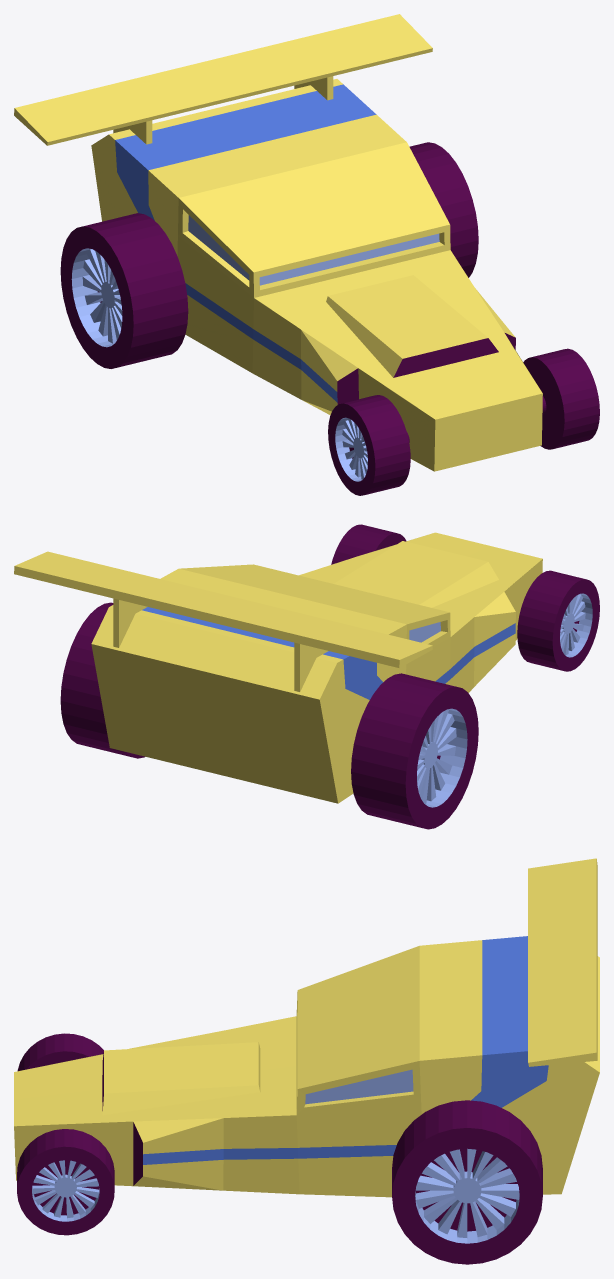
File: car2_dragster.glb
3 views of the same model, one above another, from view 1: azimuth 30°, elevation 25°; view 2: azimuth 150°, elevation 25°; view 3: azimuth 270°, elevation 25° (orthographic). The views are drawn at different scales.
Parts seen in each view (by area): view 1: car, wheel_br, wheel_fr, wheel_fl, wheel_bl; view 2: car, wheel_br, wheel_fr, wheel_bl, wheel_fl; view 3: car, wheel_bl, wheel_fl, wheel_fr.
Part boxes in pixels (left/top/right/bottom): car: left=14, top=14, right=546, bottom=471; wheel_br: left=60, top=213, right=188, bottom=368; wheel_fr: left=328, top=395, right=410, bottom=495; wheel_fl: left=523, top=348, right=599, bottom=449; wheel_bl: left=409, top=142, right=478, bottom=277; car: left=14, top=532, right=542, bottom=803; wheel_br: left=351, top=673, right=478, bottom=829; wheel_fr: left=517, top=570, right=599, bottom=671; wheel_bl: left=60, top=602, right=145, bottom=758; wheel_fl: left=331, top=524, right=406, bottom=564; car: left=14, top=858, right=599, bottom=1197; wheel_bl: left=392, top=1100, right=542, bottom=1264; wheel_fl: left=17, top=1129, right=114, bottom=1235; wheel_fr: left=17, top=1033, right=103, bottom=1071.
Size of the model in its own units: 1.63 by 0.8729 by 2.08.
1 material, 1 textured.
